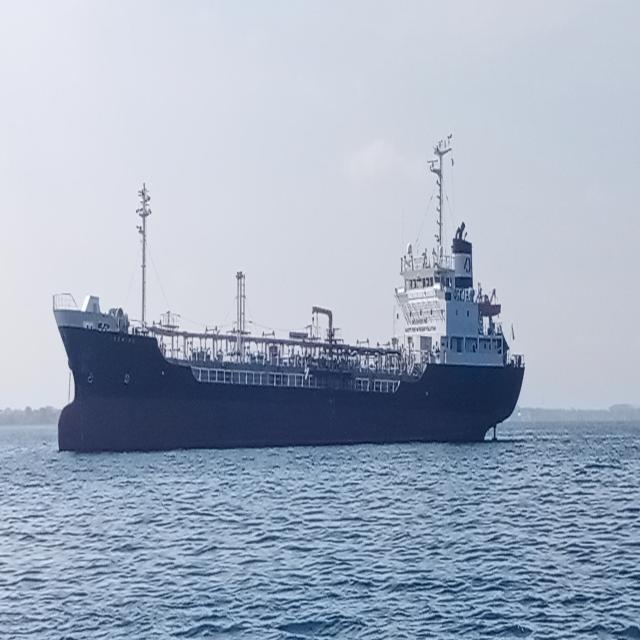PassengerShip: (39, 119, 522, 512)
